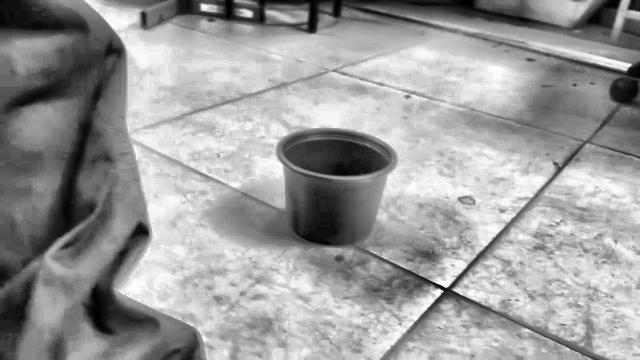pot: (277, 129, 396, 245)
